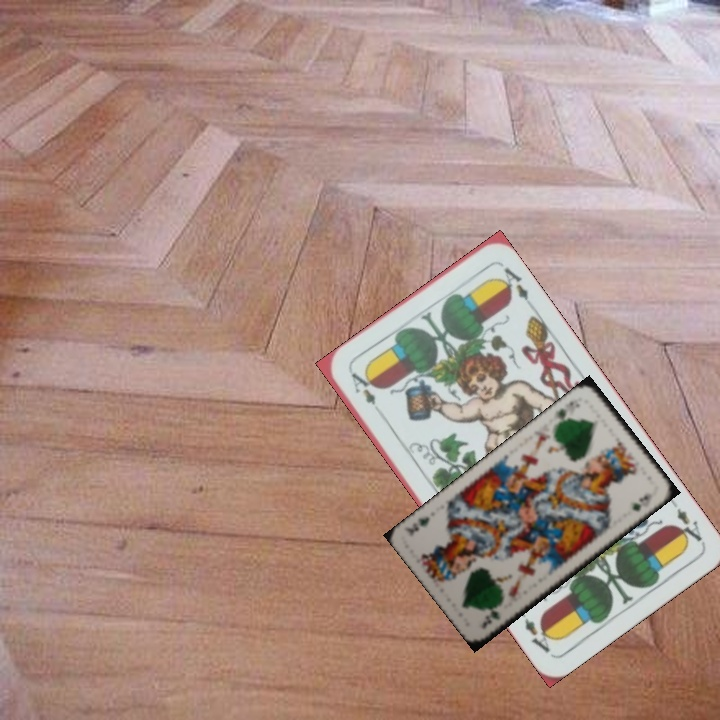EA: (665, 495, 705, 549), (347, 368, 379, 408)
GK: (551, 397, 574, 426), (478, 607, 503, 632)
